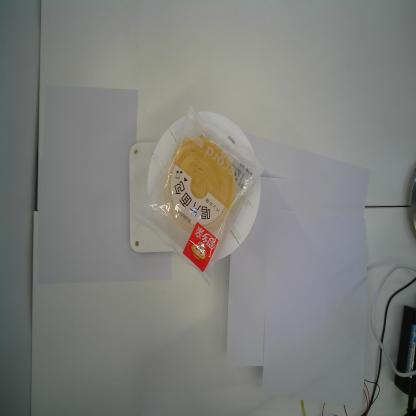Dessert: (130, 102, 266, 290)
